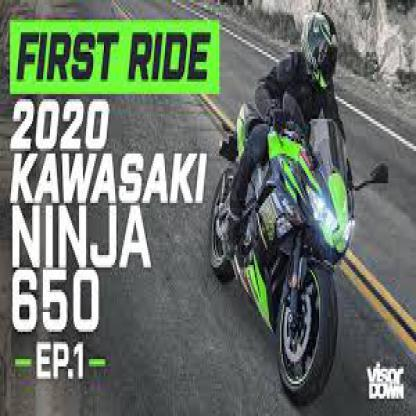Motorcycle: (218, 118, 352, 406)
